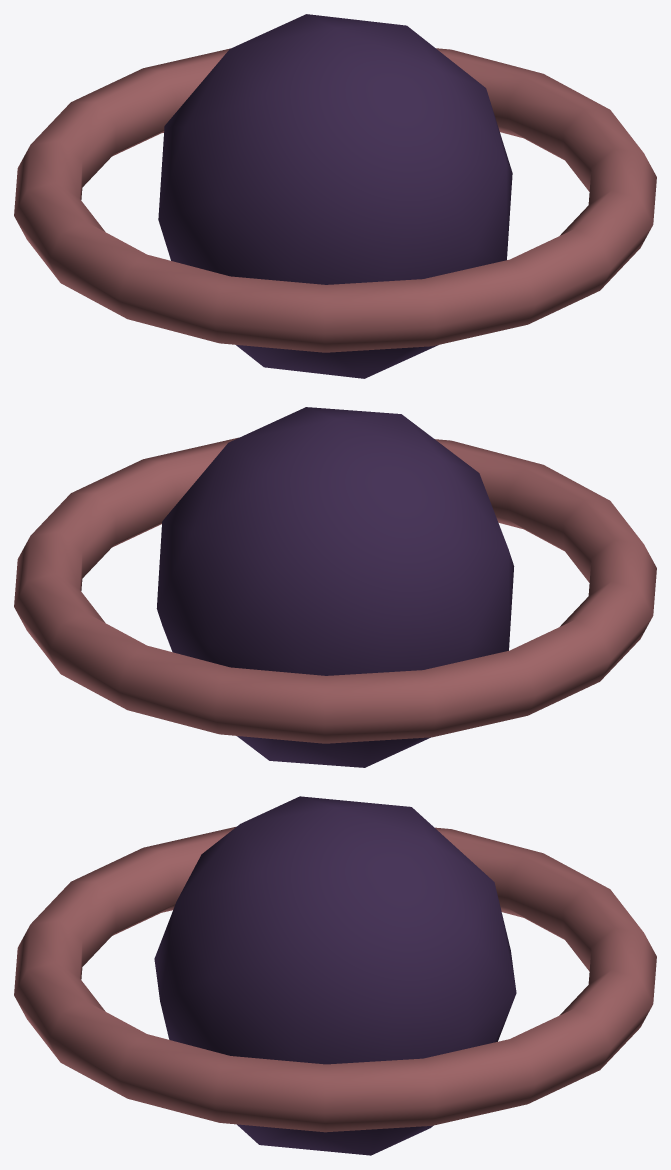
The model's file is off_10_void_focus.glb.
3 renders of one model, top to bottom at view 1: azimuth 30°, elevation 25°; view 2: azimuth 150°, elevation 25°; view 3: azimuth 270°, elevation 25°, orthographic.
Parts seen in each view (by area): view 1: focus_core, focus_ring; view 2: focus_core, focus_ring; view 3: focus_core, focus_ring.
Boxes of the visible parts, left/top/right/bottom form: focus_core: left=158, top=14, right=512, bottom=378; focus_ring: left=14, top=48, right=656, bottom=352; focus_core: left=156, top=407, right=514, bottom=767; focus_ring: left=14, top=437, right=656, bottom=743; focus_core: left=154, top=796, right=516, bottom=1155; focus_ring: left=14, top=826, right=656, bottom=1132.
Bounding box in the file's own units: 0.5597 × 0.32 × 0.5544.
